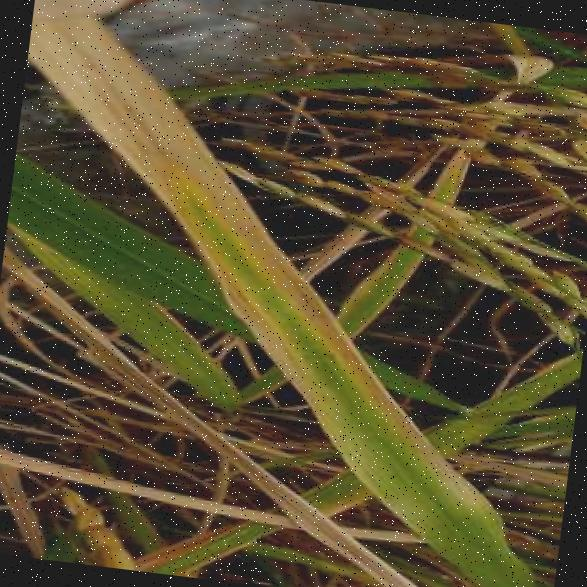Bacteria_Leaf_Blight: (315, 358, 463, 552)
